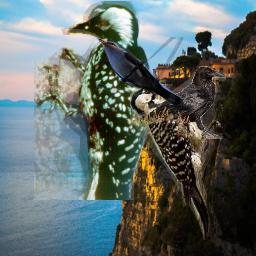Crow: (129, 66, 226, 139)
Cuckoo: (96, 37, 183, 105)
Woodpecker: (34, 1, 152, 200), (130, 84, 223, 240)
